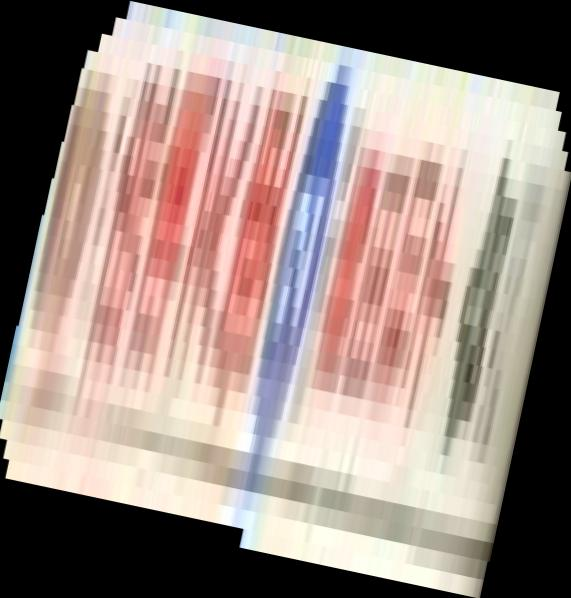flat: (1, 1, 571, 598)
